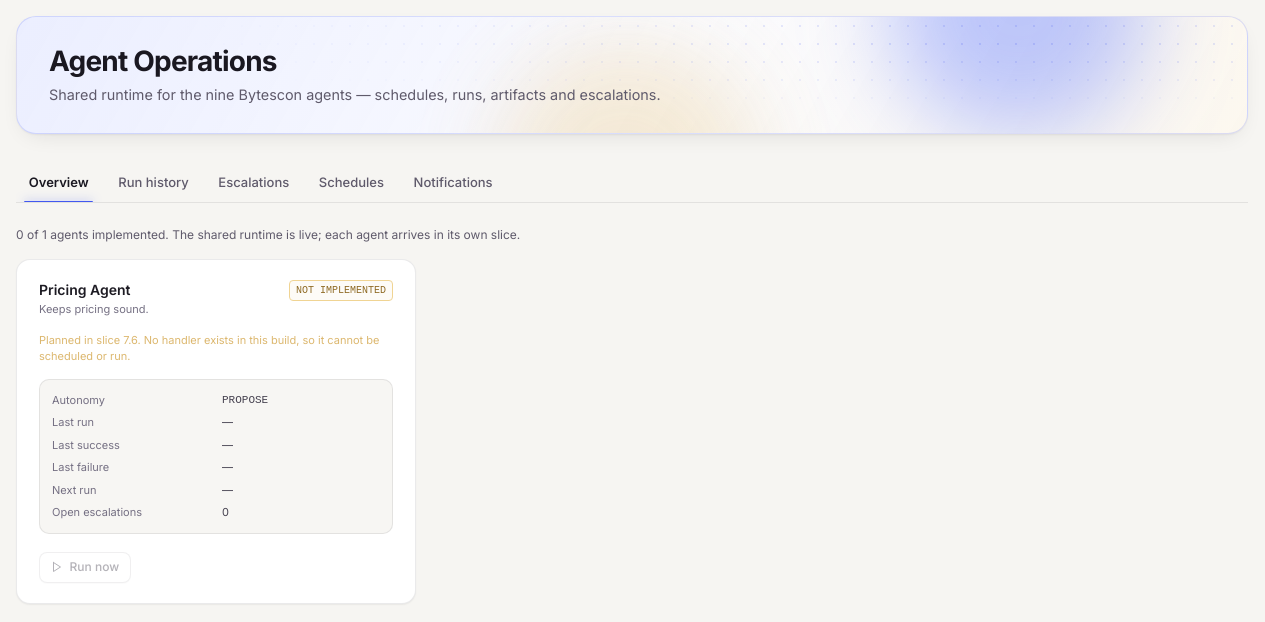
Test case: Agents — run history › shows the empty state with a useful hint
The width and height of the screenshot is (1265, 622).
Expected: the heading "Pricing Agent" is shown, [39,282,130,298]
Click the tab "Run history".
click(154, 182)  # box [106,162,202,202]
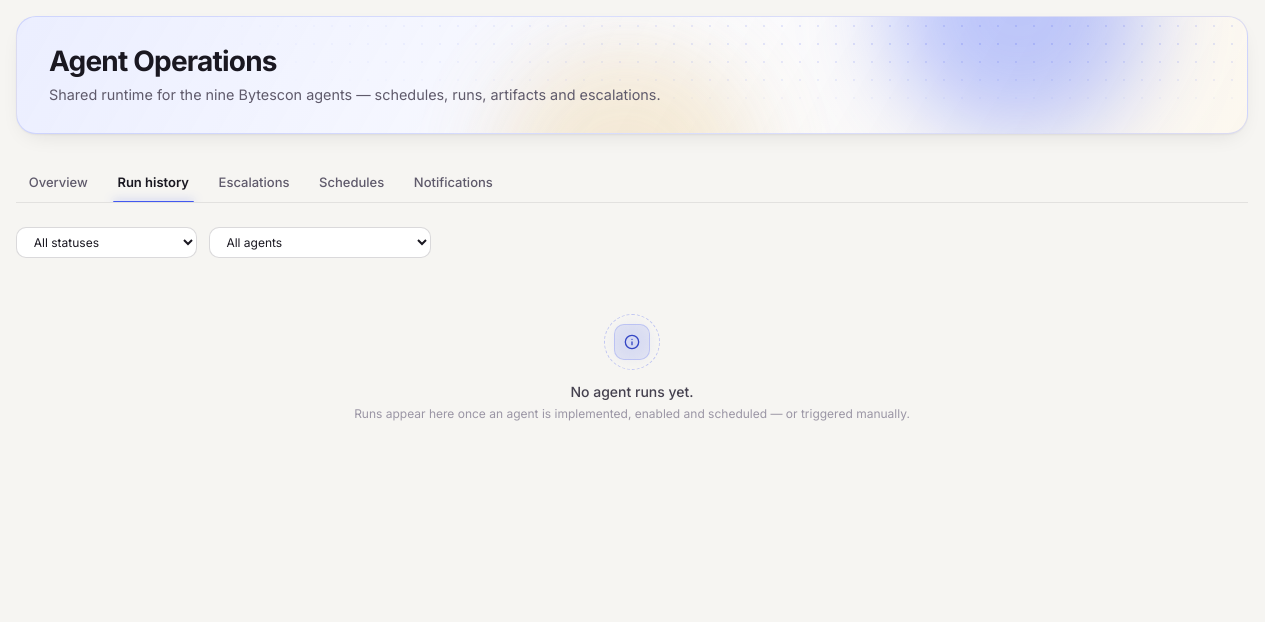
Now the text "No agent runs yet." is shown, box [570,384,694,400]
